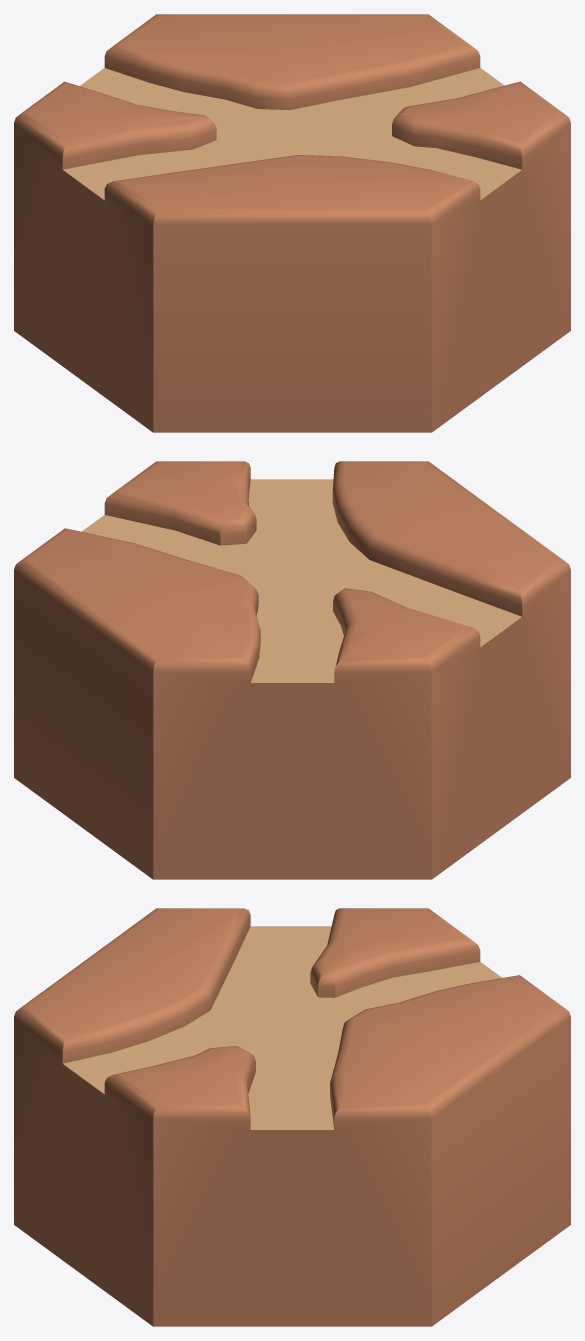
File: hex_rock_roadJ.glb
3 views of the same model, one above another, from view 1: azimuth 30°, elevation 25°; view 2: azimuth 150°, elevation 25°; view 3: azimuth 270°, elevation 25° (orthographic).
Parts seen in each view (by area): view 1: hex_rock_roadJ; view 2: hex_rock_roadJ; view 3: hex_rock_roadJ.
Boxes of the visible parts, box(x1,y1,x2,y2) form: hex_rock_roadJ: box(14, 14, 570, 432); hex_rock_roadJ: box(14, 461, 570, 879); hex_rock_roadJ: box(14, 908, 570, 1326).
Size of the model in its own units: 2 by 1 by 2.31.
